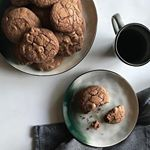cups: (107, 10, 150, 69)
